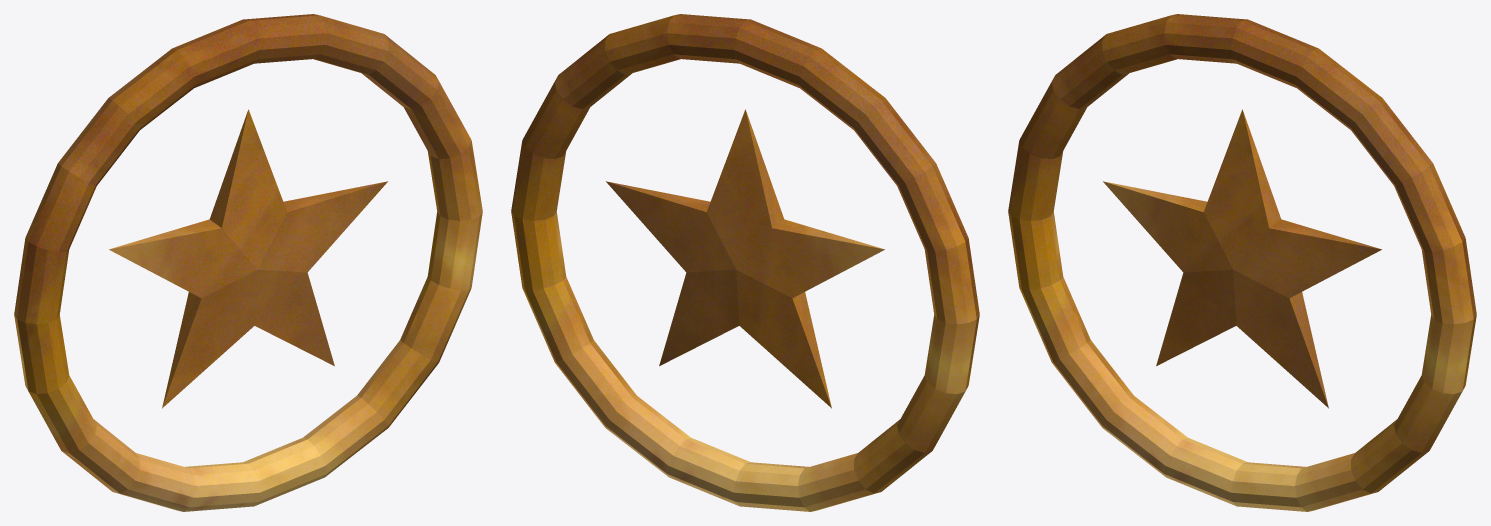
Rendered from starText.obj.
3 renders of one model, left to right at view 1: azimuth 30°, elevation 25°; view 2: azimuth 150°, elevation 25°; view 3: azimuth 330°, elevation 25°, orthographic.
Visible parts, largest first — view 1: Torus.001; view 2: Torus.001; view 3: Torus.001.
Boxes of the visible parts, box(x1,y1,x2,y2) form: Torus.001: box(14, 14, 482, 511); Torus.001: box(511, 14, 979, 511); Torus.001: box(1008, 14, 1476, 511).
Size of the model in its own units: 2.19 by 2.19 by 0.1868.
